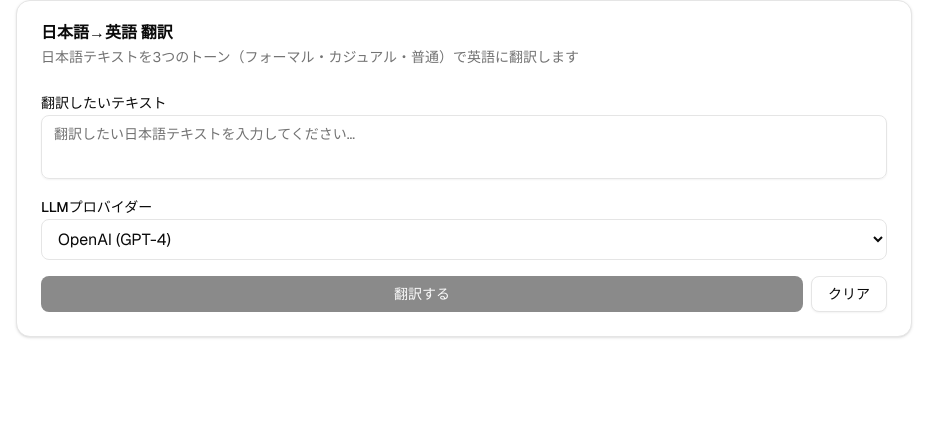
Test: TranslationForm › should handle API errors gracefully
This screenshot has width=929, height=446.
Type "こんにちは" into the text box with placeholder "翻訳したい日本語テキストを入力してください..." at (464,147), box [41,115,887,179]
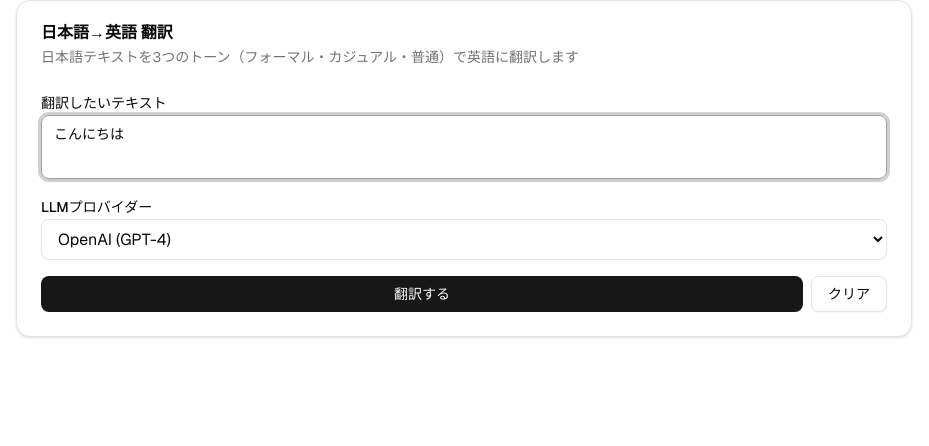
Click the button "翻訳する" at (422,294), box [41,276,803,312]
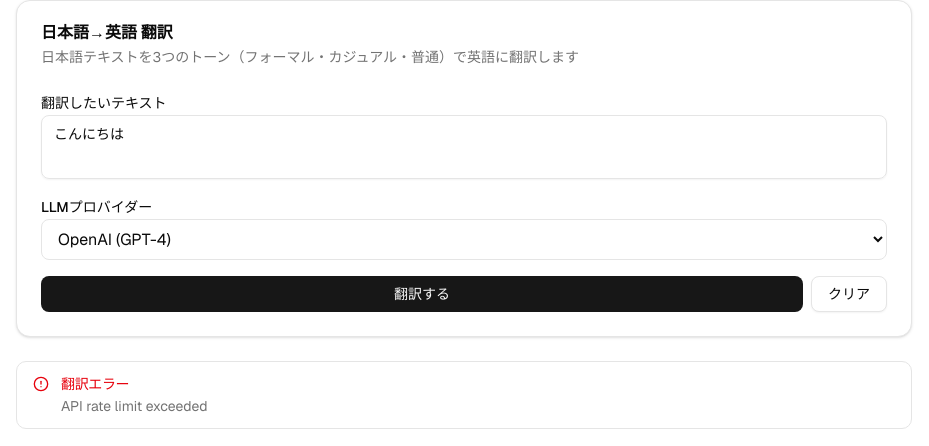
Result: the heading "翻訳エラー" is shown at [61,375,129,393]
Result: the text "API rate limit exceeded" is shown at [61,397,208,415]
